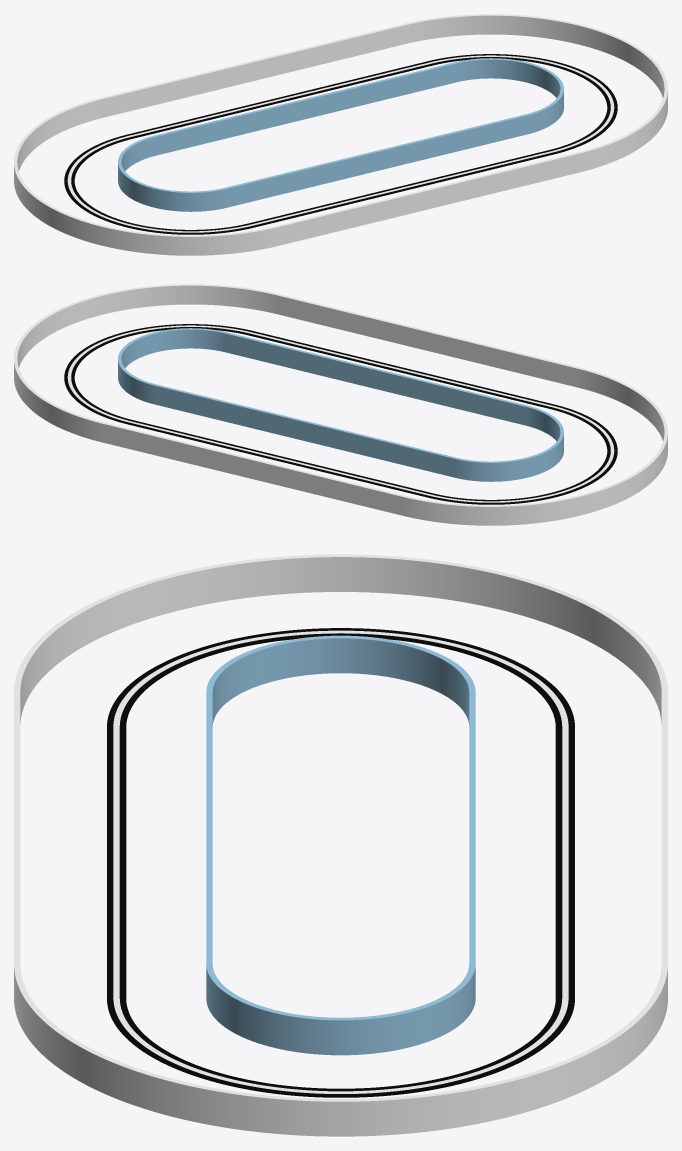
The model's file is track_small_full.dae.
The picture shows the model from 3 angles, top to bottom: view 1: azimuth 30°, elevation 25°; view 2: azimuth 150°, elevation 25°; view 3: azimuth 270°, elevation 25°; orthographic projection. The views are drawn at different scales.
Parts seen in each view (by area): view 1: Part 1, Part 2, Part 4, Part 5, Part 3; view 2: Part 1, Part 2, Part 4, Part 5, Part 3; view 3: Part 1, Part 2, Part 5, Part 4, Part 3.
Boxes of the visible parts, x1,y1,x2,y2 form: Part 1: (14,14,667,255); Part 2: (118,58,563,211); Part 4: (64,54,617,234); Part 5: (71,57,610,231); Part 3: (67,55,614,232); Part 1: (14,284,667,525); Part 2: (118,328,563,481); Part 4: (64,324,617,504); Part 5: (71,327,610,501); Part 3: (67,325,614,502); Part 1: (14,554,667,1136); Part 2: (206,635,475,1055); Part 5: (119,633,562,1091); Part 4: (107,628,574,1097); Part 3: (113,630,568,1093).
Bounding box in the file's own units: 10.1 × 5.1 × 0.3041.
